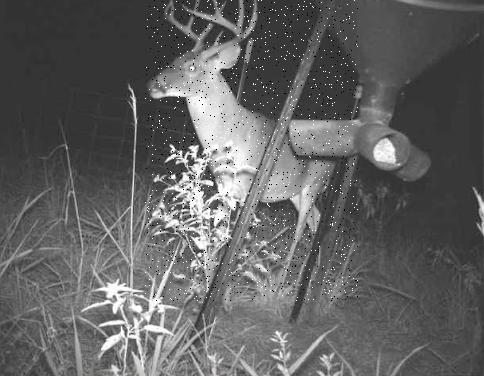Deer: (145, 0, 358, 301)
